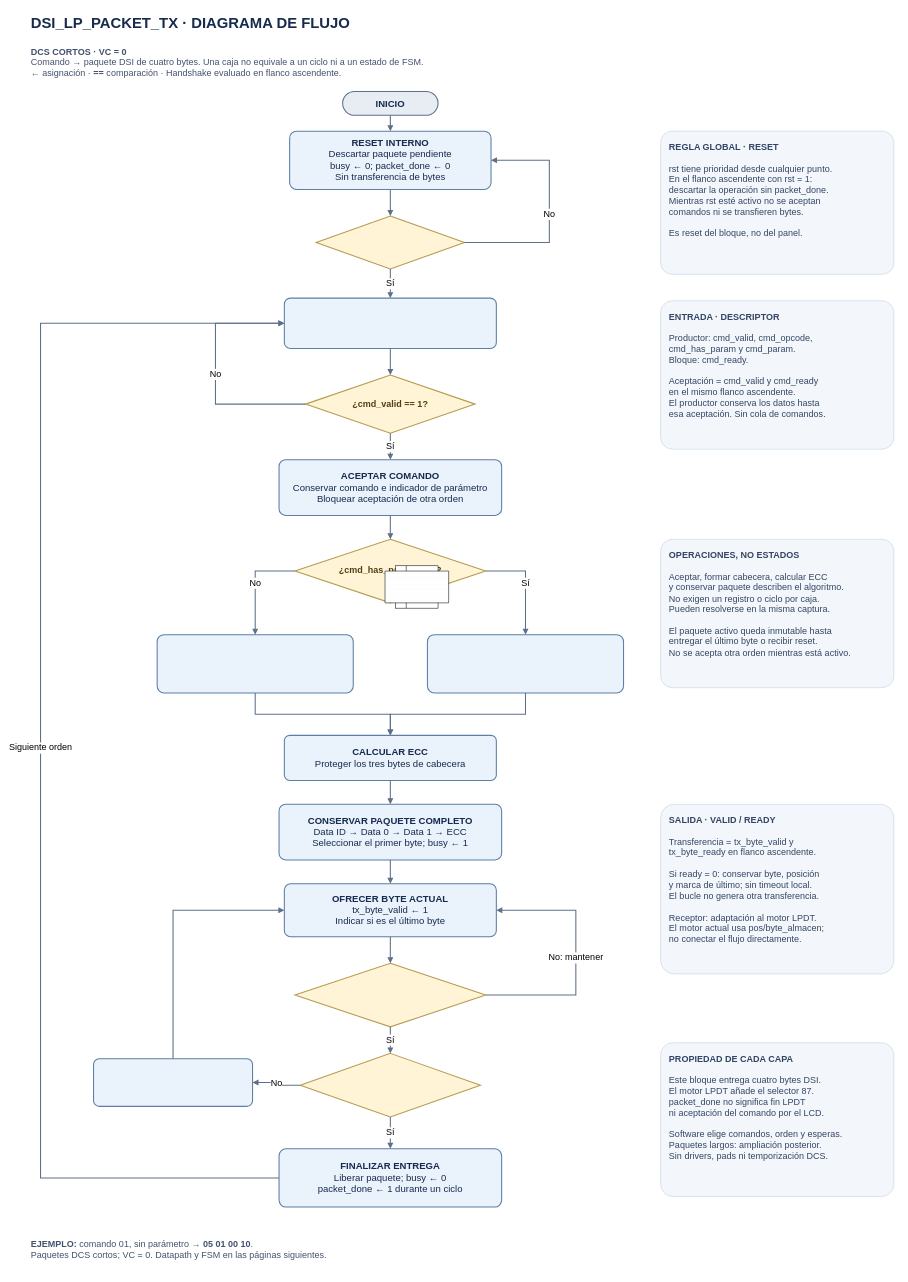
The diagram is 908 pixels wide and 1282 high, and some of its shapes have lost their labels. Here are the shapes that lost their labels. From the top down, the centre of each, then its label:
At point (390, 242): "¿rst == 0?".
At point (390, 323): "ESPERAR COMANDO cmd_ready ← 1; tx_byte_valid ← 0 packet_done ← 0".
At point (255, 663): "FORMAR CABECERA SIN PARÁMETRO Data ID ← 05 Data 0 ← comando; Data 1 ← 00".
At point (525, 663): "FORMAR CABECERA CON PARÁMETRO Data ID ← 15 Data 0 ← comando; Data 1 ← parámetro".
At point (390, 994): "¿tx_byte_ready == 1?".
At point (173, 1082): "AVANZAR Seleccionar el siguiente byte".
At point (390, 1085): "BYTE TRANSFERIDO ¿Era el último byte?".
